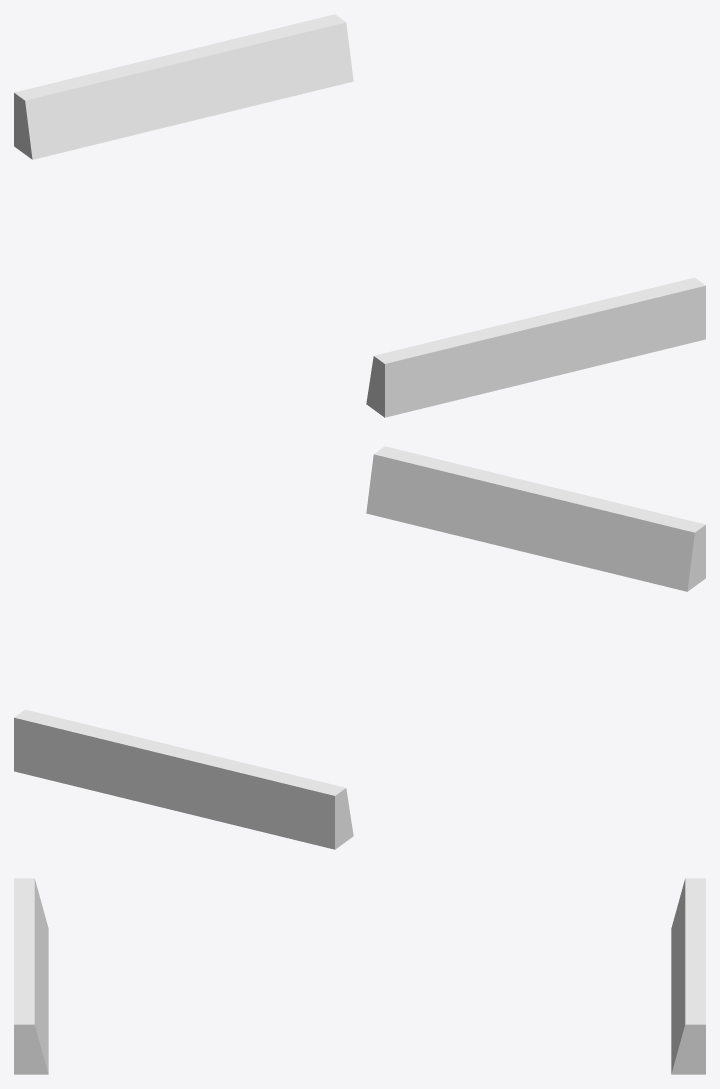
Rendered from road-straight-barrier-half.glb.
3 renders of one model, top to bottom at view 1: azimuth 30°, elevation 25°; view 2: azimuth 150°, elevation 25°; view 3: azimuth 270°, elevation 25°, orthographic. The views are drawn at different scales.
Parts seen in each view (by area): view 1: road-straight-barrier-half; view 2: road-straight-barrier-half; view 3: road-straight-barrier-half.
Part boxes in pixels (x1,y1,x2,y2): road-straight-barrier-half: (14, 14, 705, 417); road-straight-barrier-half: (14, 446, 705, 849); road-straight-barrier-half: (14, 878, 705, 1074).
Size of the model in its own units: 0.5 by 0.08 by 1.
1 material, 1 textured.
